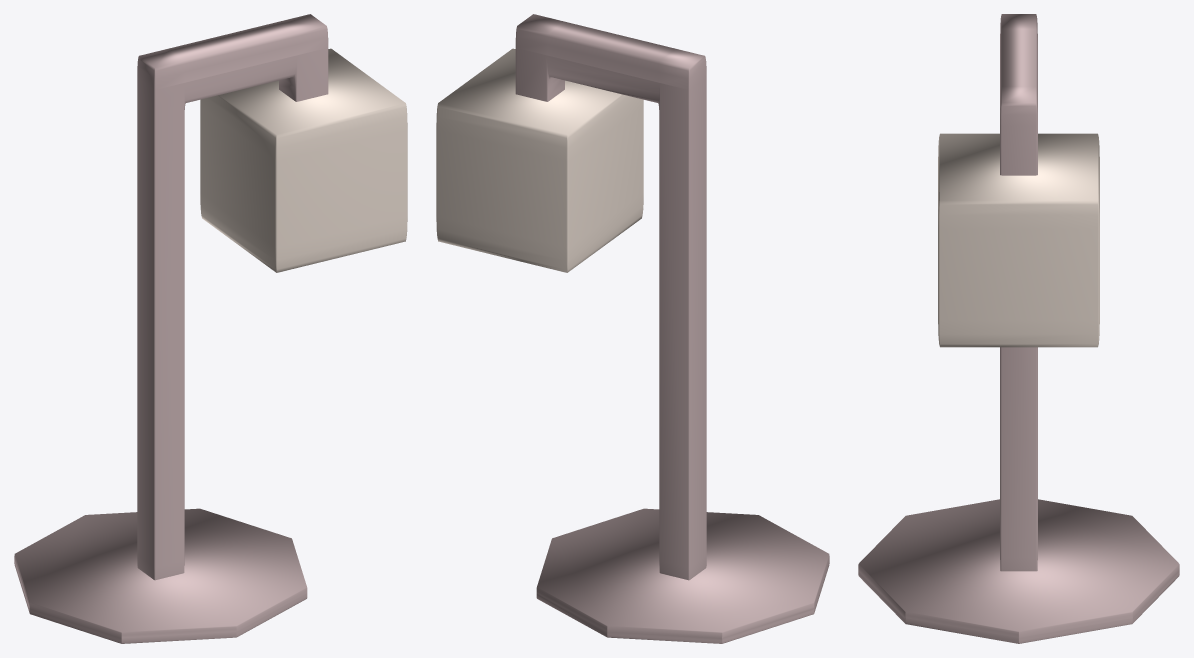
Rendered from Light Stand 01.fbx.
The picture shows the model from 3 angles, left to right: view 1: azimuth 30°, elevation 25°; view 2: azimuth 150°, elevation 25°; view 3: azimuth 270°, elevation 25°; orthographic projection. The views are drawn at different scales.
Visible parts, largest first — view 1: Light Stand, Light Shade, Light Base; view 2: Light Stand, Light Shade, Light Base; view 3: Light Shade, Light Base, Light Stand.
Part boxes in pixels (x1,y1,x2,y2): Light Stand: [137, 14, 328, 580]; Light Shade: [200, 48, 407, 272]; Light Base: [14, 508, 307, 643]; Light Stand: [515, 14, 706, 580]; Light Shade: [436, 48, 643, 272]; Light Base: [536, 508, 829, 643]; Light Shade: [938, 133, 1099, 347]; Light Base: [858, 499, 1179, 643]; Light Stand: [1000, 14, 1037, 571].
Size of the model in its own units: 72.62 by 107 by 56.02.
